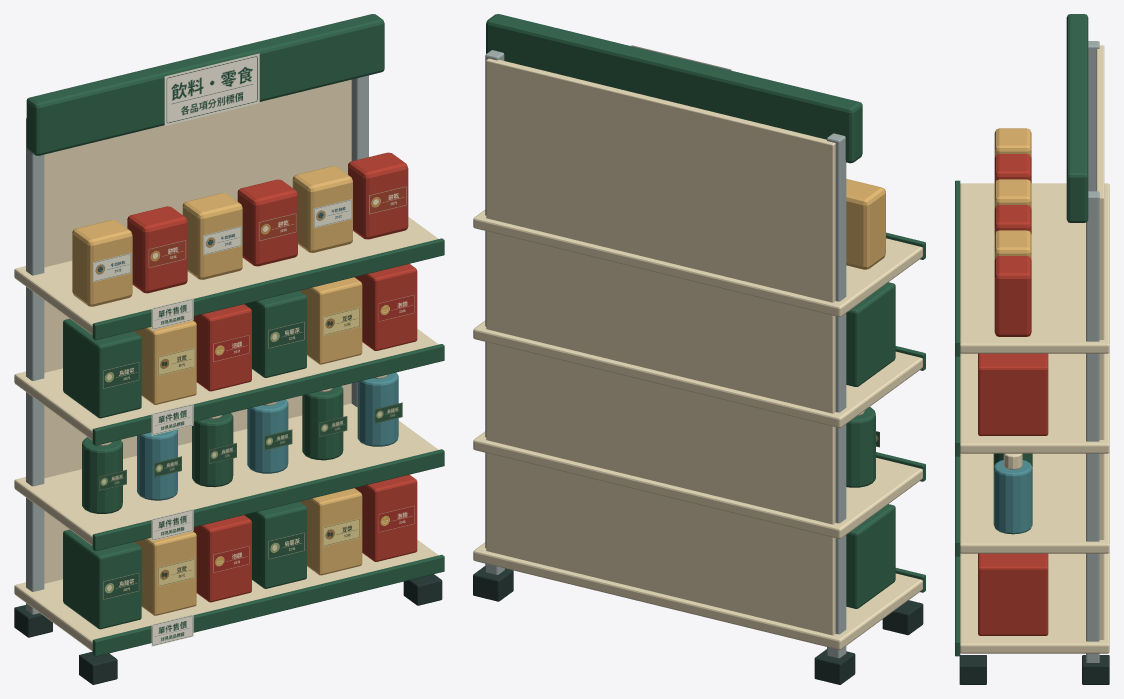
File: 03_ProductShelf.glb
3 renders of one model, left to right at view 1: azimuth 30°, elevation 25°; view 2: azimuth 150°, elevation 25°; view 3: azimuth 270°, elevation 25°, orthographic. The views are drawn at different scales.
Visible parts, largest first — view 1: 03_ProductShelf; view 2: 03_ProductShelf; view 3: 03_ProductShelf.
Part boxes in pixels (x1,y1,x2,y2): 03_ProductShelf: [14, 14, 444, 684]; 03_ProductShelf: [473, 14, 925, 684]; 03_ProductShelf: [955, 14, 1109, 684].
Bounding box in the file's own units: 1.25 × 1.84 × 0.507.
Materials: 8 (1 with a texture image).
